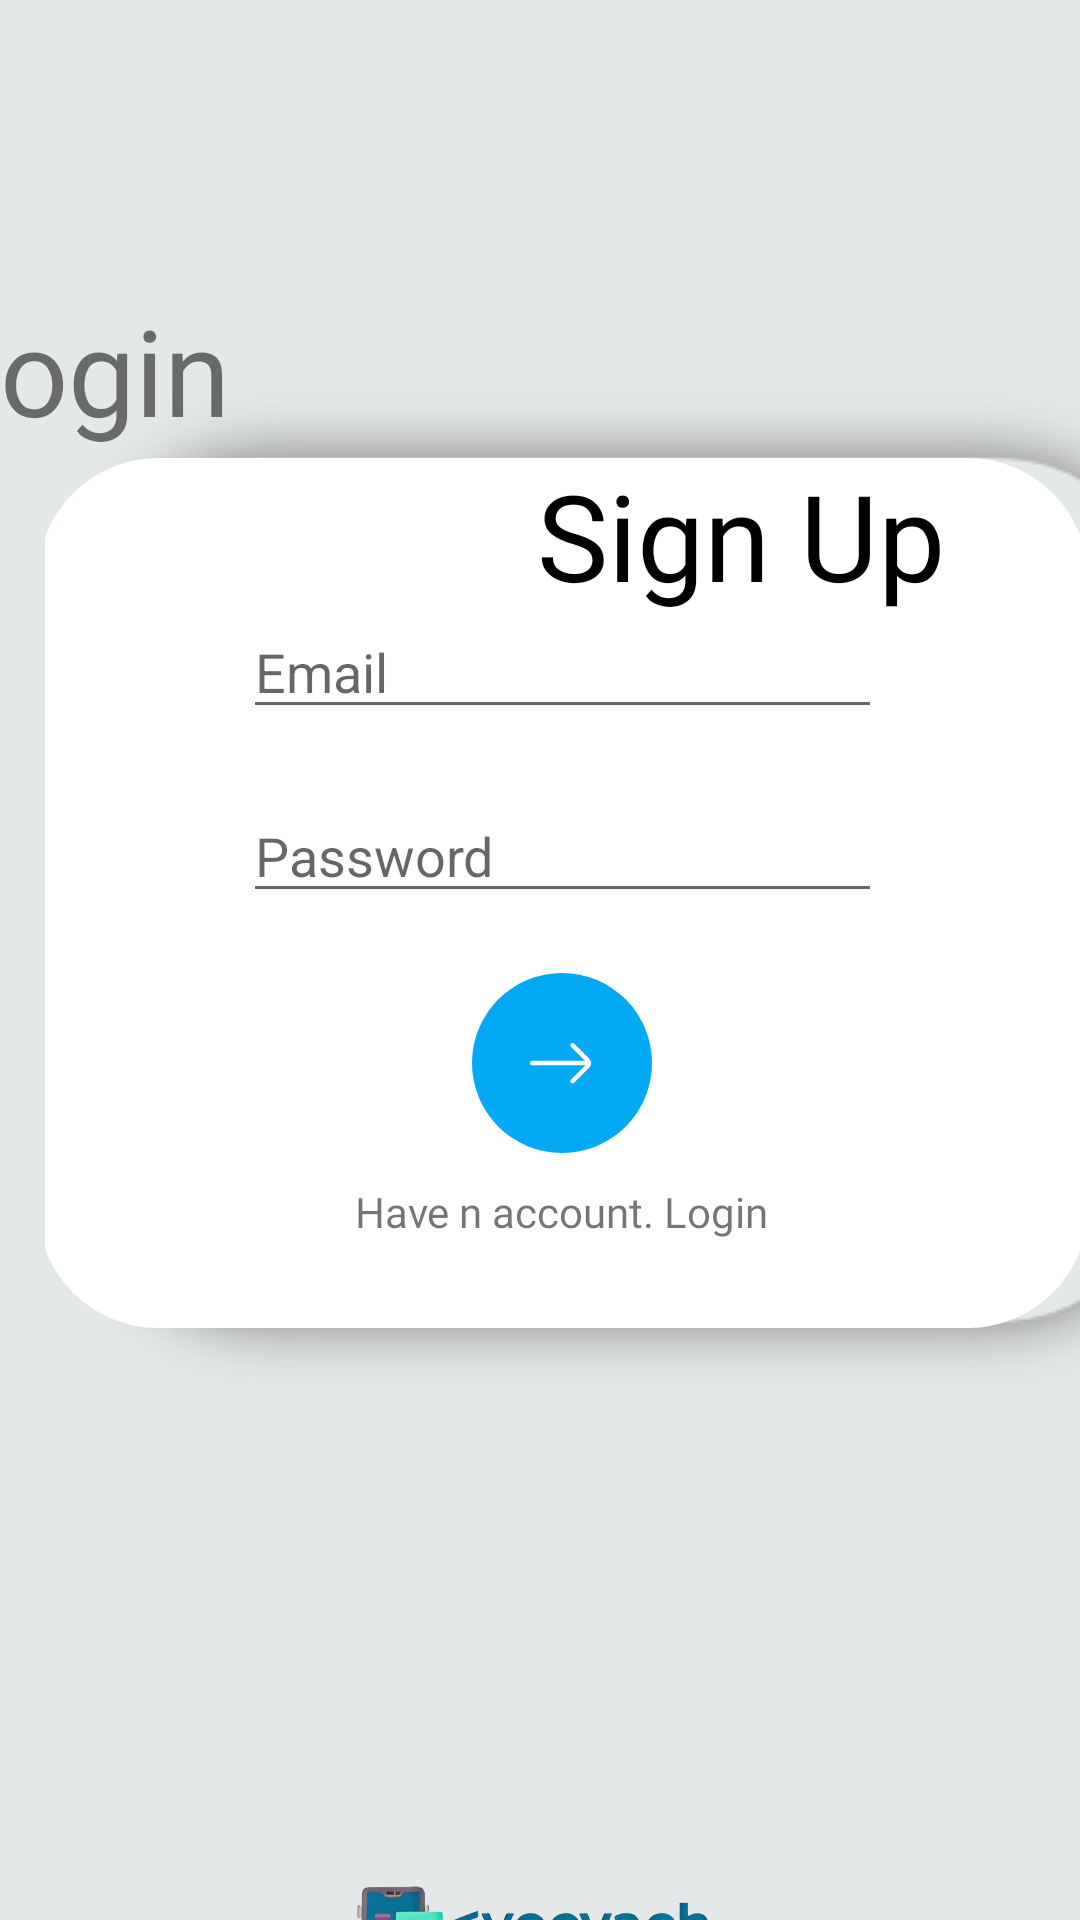

Point at icon controls on the screen. Image size 1080*1920, points as (x,y).
enter: (562,1063)
